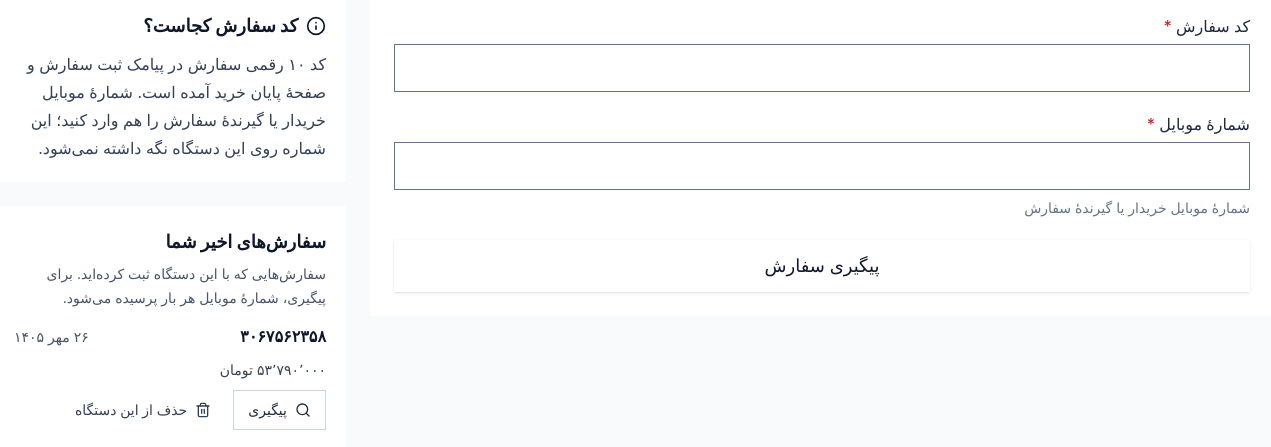
Scenario: the recent guest orders of this device › the last one removed: the section goes, the focus to the form
What coordinates should you click on to do the following:
click the button "حذف از این دستگاه"
I would click on:
 (143, 410)
Its box is left=61, top=390, right=225, bottom=430.
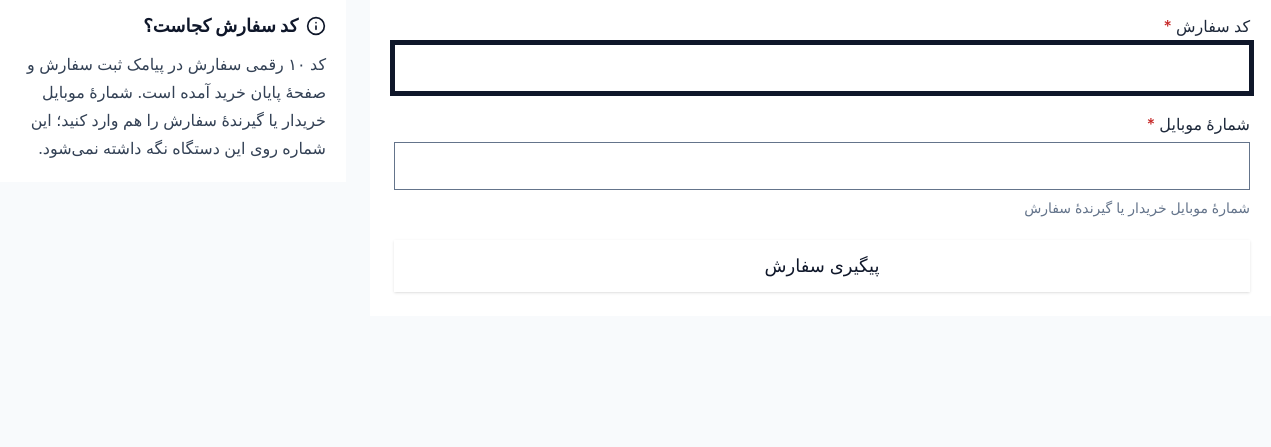
Now the heading "سفارش‌های اخیر شما" is gone
